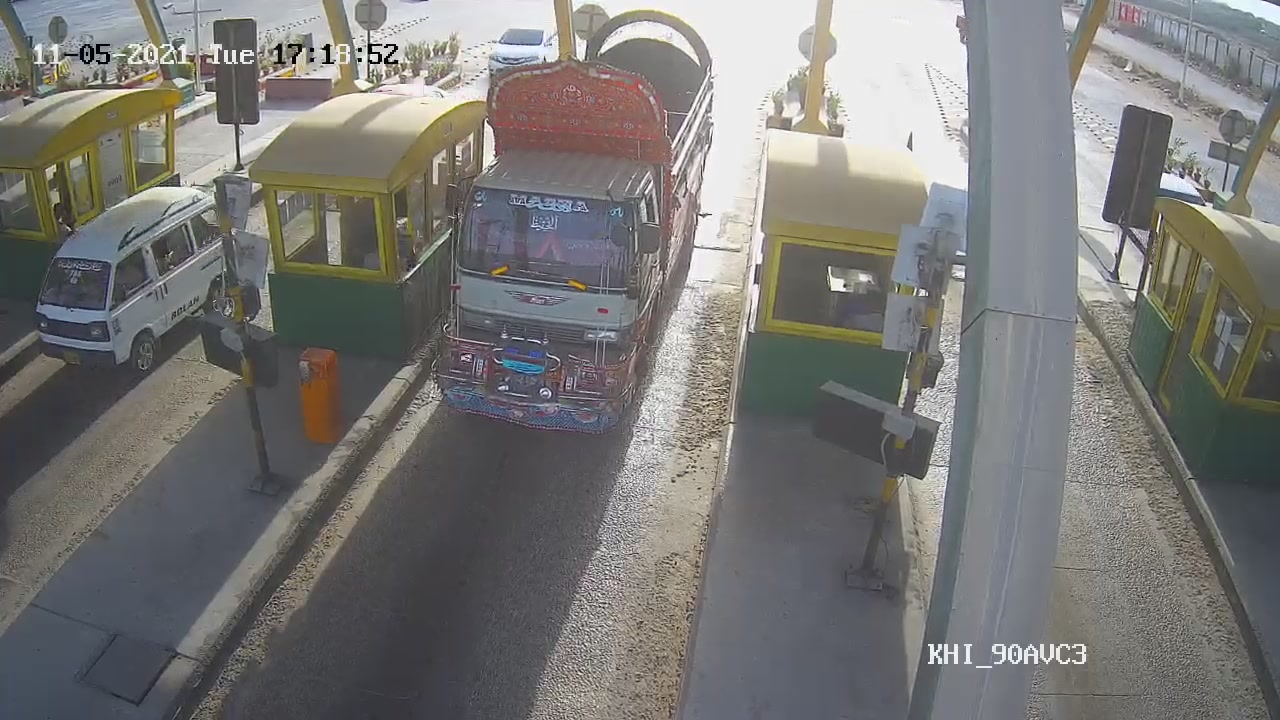F5: (428, 6, 738, 432)
